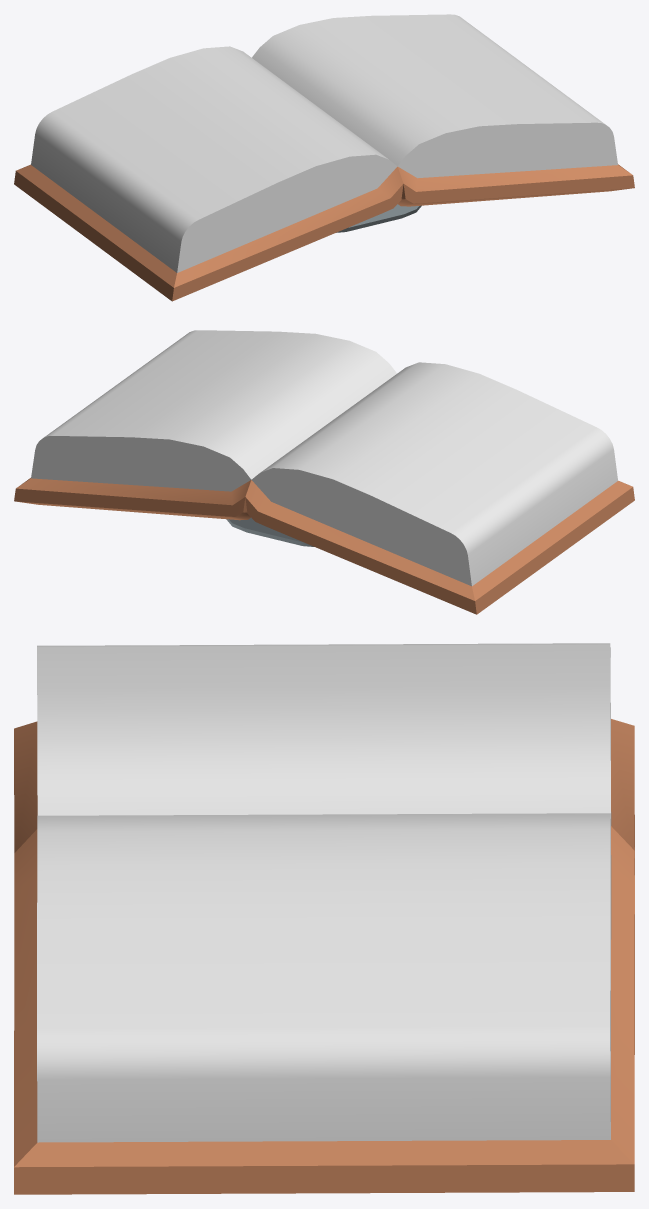
File: bookOpenB.glb
3 renders of one model, top to bottom at view 1: azimuth 30°, elevation 25°; view 2: azimuth 150°, elevation 25°; view 3: azimuth 270°, elevation 25°, orthographic. The views are drawn at different scales.
Visible parts, largest first — view 1: bookOpenB; view 2: bookOpenB; view 3: bookOpenB.
Part boxes in pixels (x1,y1,x2,y2): bookOpenB: (14,14,634,301); bookOpenB: (14,330,634,614); bookOpenB: (14,643,634,1194).
Size of the model in its own units: 0.1231 by 0.0275 by 0.0729.
